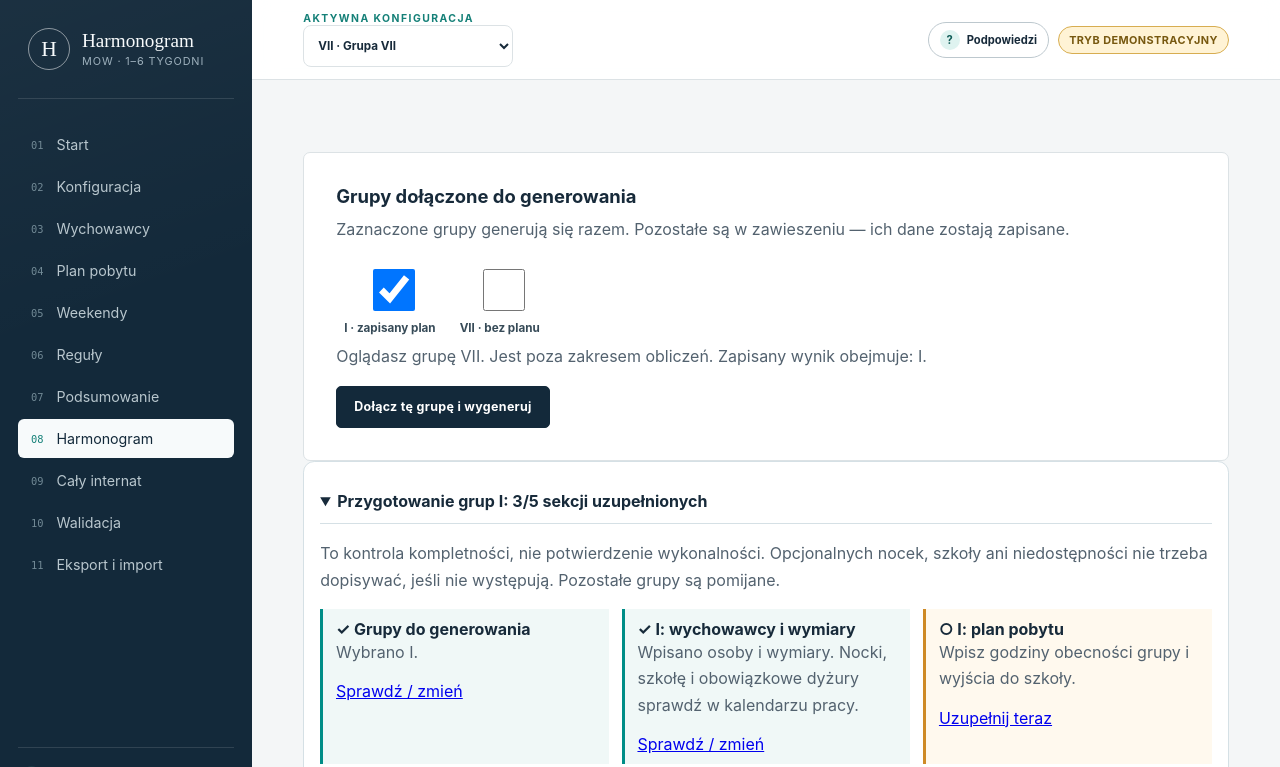
Test case: ręczny zakres grup › nie pokazuje poprawności VI jako planu VII; dołącza dokładnie wybraną grupę
The width and height of the screenshot is (1280, 767).
Click the button "Dołącz tę grupę i wygeneruj": (443, 407) [336, 386, 550, 428]
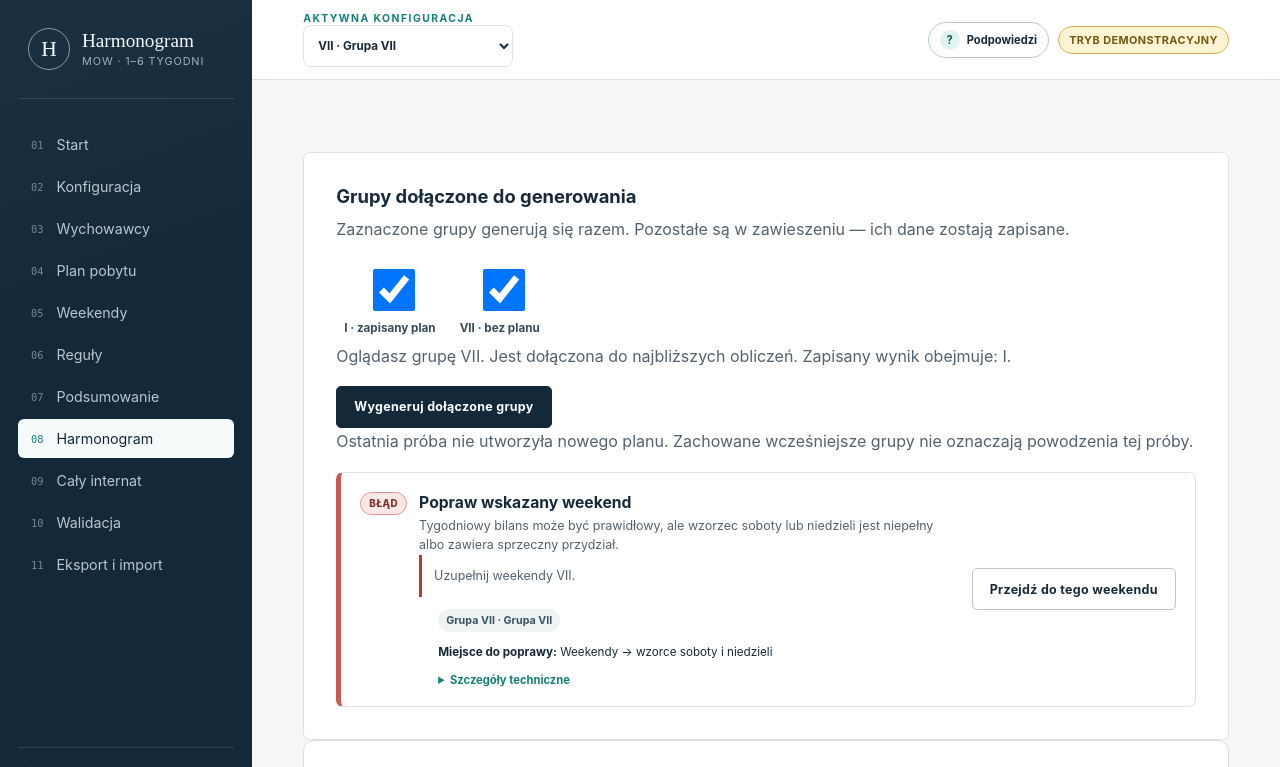
Expected: the text "Ostatnia próba nie utworzyła" is shown, [336, 431, 1193, 451]
